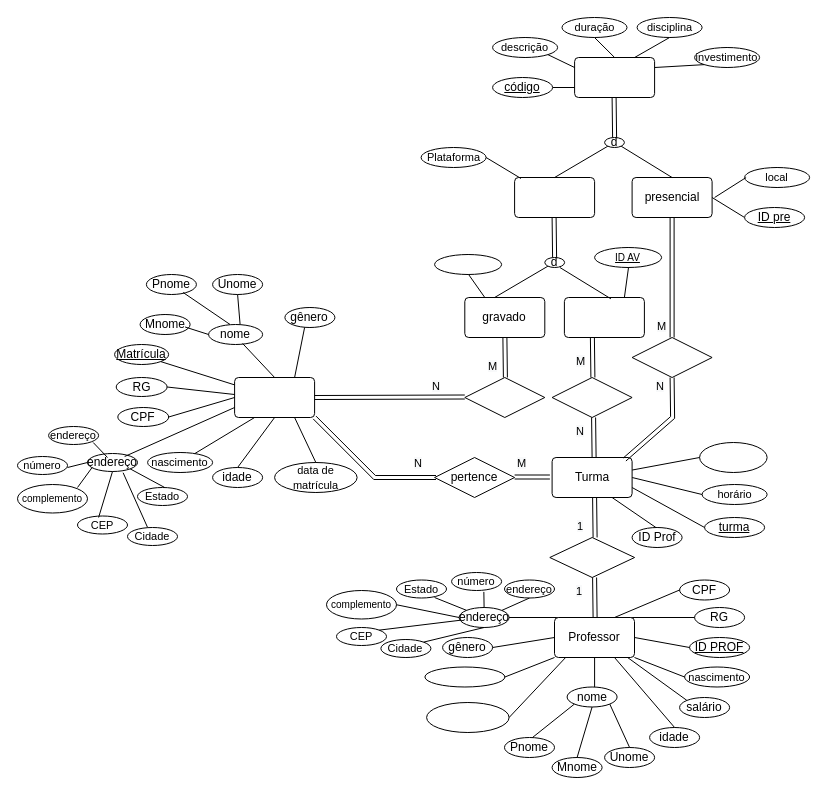
Some shapes in this 828 by 795 pixel diagram are drawn without their labels. The centre of each missing label's shape, as x and y in pixels:
"acessa" belongs at pixel 504 397.
"Acontece AV" belongs at pixel 591 397.
"Acontece PRE" belongs at pixel 671 357.
"Aluno" belongs at pixel 274 397.
"ao-vivo" belongs at pixel 603 317.
"curso" belongs at pixel 614 77.
"dias de aula" belongs at pixel 733 457.
"disponibilidade" belongs at pixel 467 717.
"habilidades" belongs at pixel 464 676.
"ID GRAVADO" belongs at pixel 468 264.
"ministra" belongs at pixel 592 557.
"remoto" belongs at pixel 554 197.
